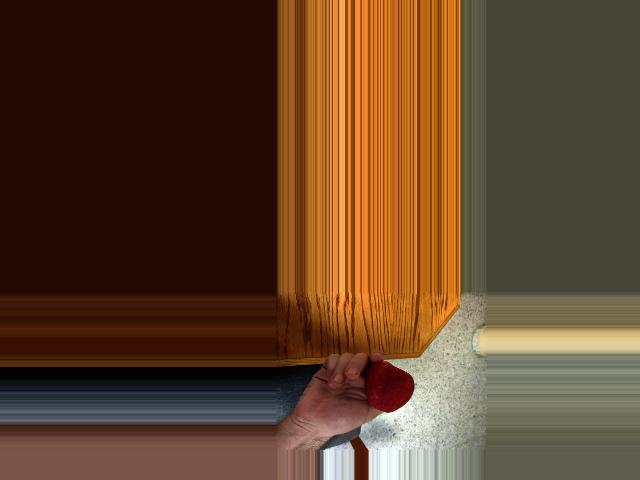apple: (363, 361, 416, 413)
